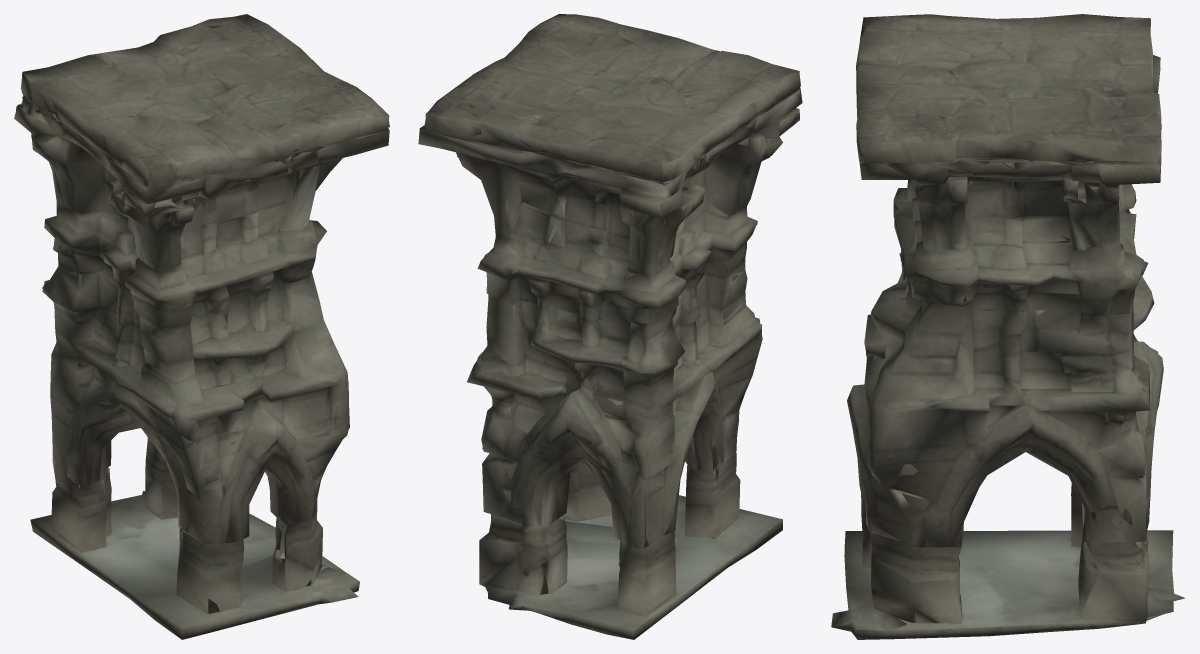
Rendered from gothic-pillar.glb.
3 views of the same model, side by side, from view 1: azimuth 30°, elevation 25°; view 2: azimuth 150°, elevation 25°; view 3: azimuth 270°, elevation 25° (orthographic). The views are drawn at different scales.
Visible parts, largest first — view 1: gothic_pillar; view 2: gothic_pillar; view 3: gothic_pillar.
Part boxes in pixels (bbox=[...]): gothic_pillar: bbox=[14, 14, 389, 639]; gothic_pillar: bbox=[418, 14, 802, 639]; gothic_pillar: bbox=[831, 14, 1185, 639].
Size of the model in its own units: 2.42 by 4.4 by 2.73.
Materials: 1 (1 with a texture image).
